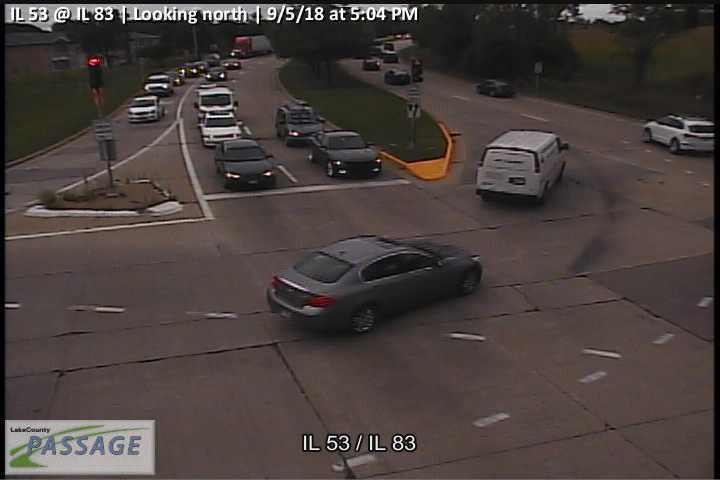SUV: (474, 130, 570, 204), (642, 113, 715, 155), (274, 99, 326, 147), (193, 85, 239, 123)
Sedan: (265, 235, 483, 334), (309, 132, 383, 177), (213, 140, 276, 188), (199, 112, 242, 148), (128, 95, 165, 124), (143, 73, 175, 97), (476, 79, 515, 98), (384, 67, 411, 85), (206, 67, 226, 82), (183, 64, 199, 76), (169, 73, 184, 85), (361, 60, 379, 70), (224, 61, 240, 70)
Truck: (235, 34, 272, 57)
